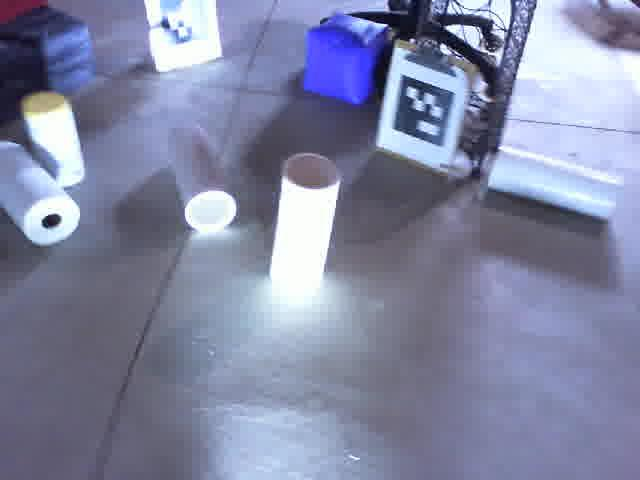coral: (264, 145, 348, 306), (484, 140, 624, 223), (155, 115, 243, 240)
